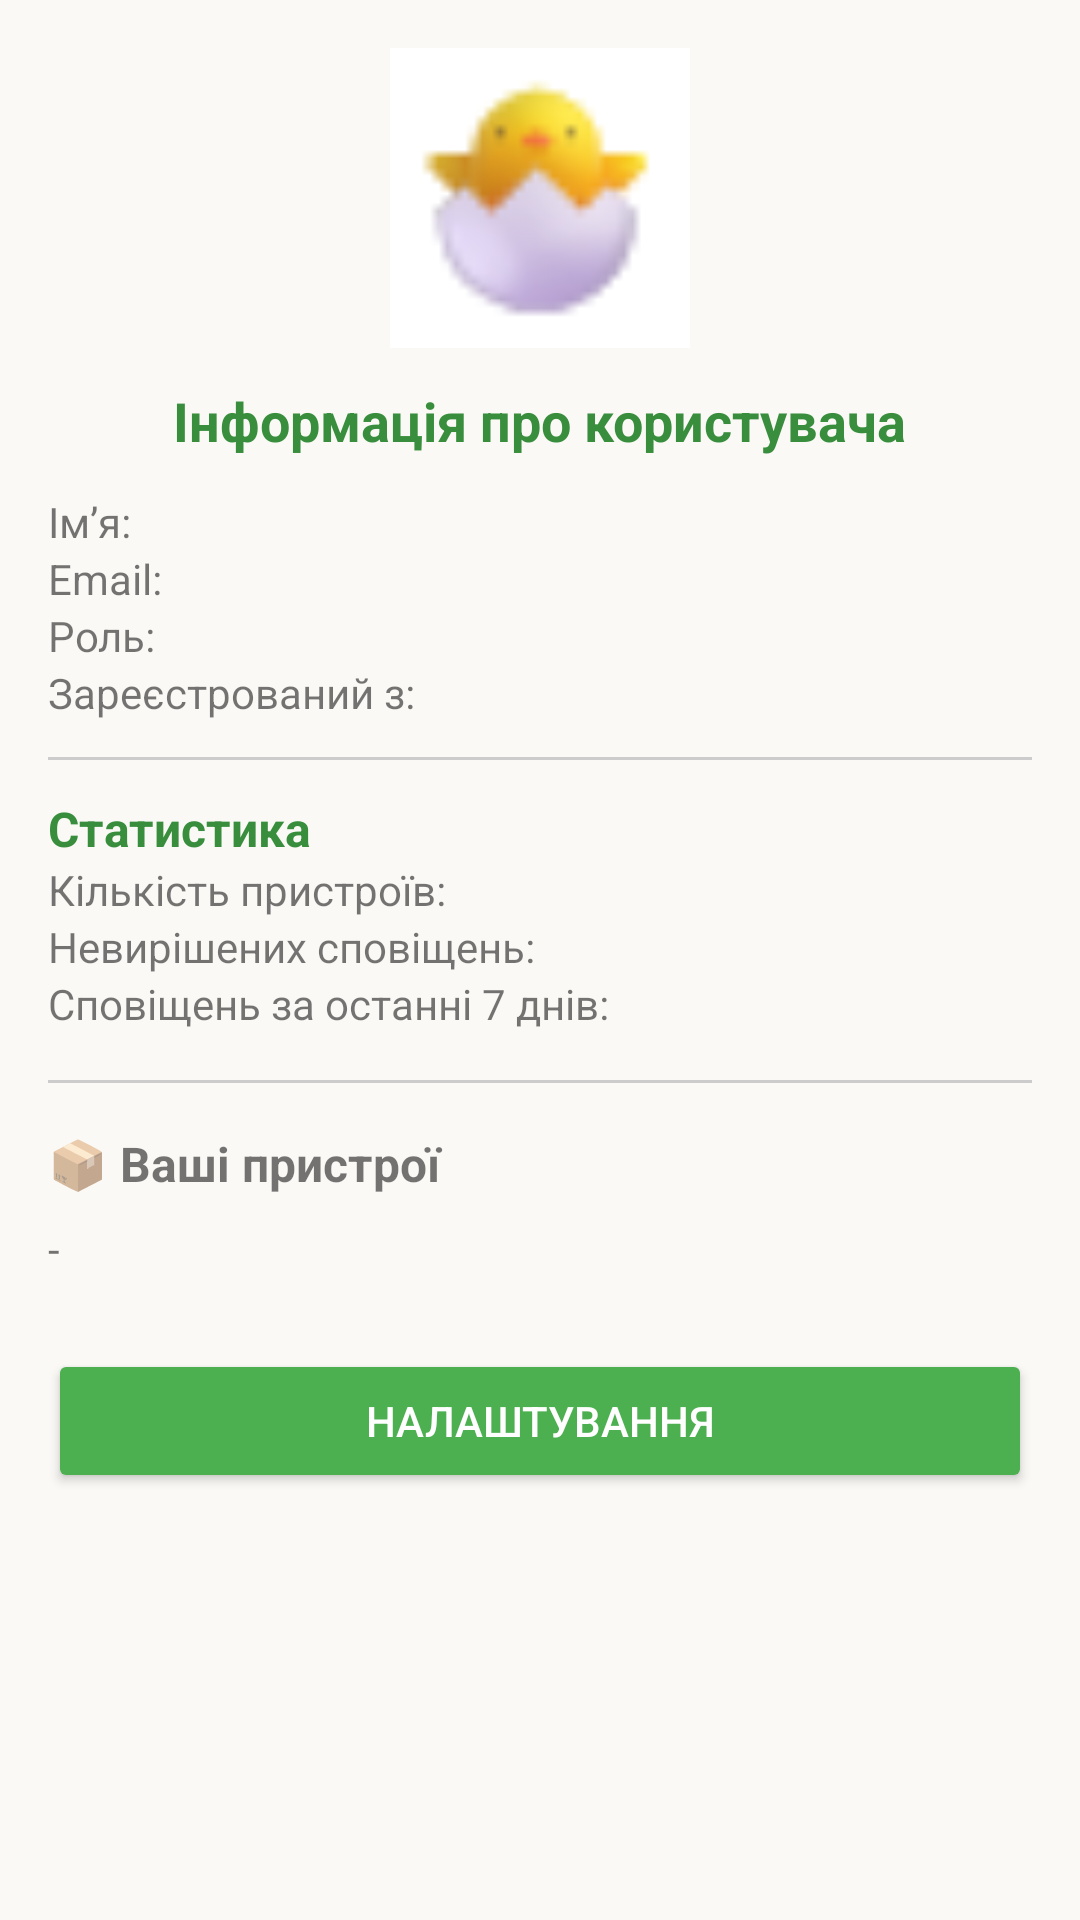

Icons on this 1080w x 1920h Android screen, each with its box as {"left": x1, "top": y1, "right": x2, "bottom": y2}:
egg incubator: {"left": 424, "top": 83, "right": 649, "bottom": 314}
